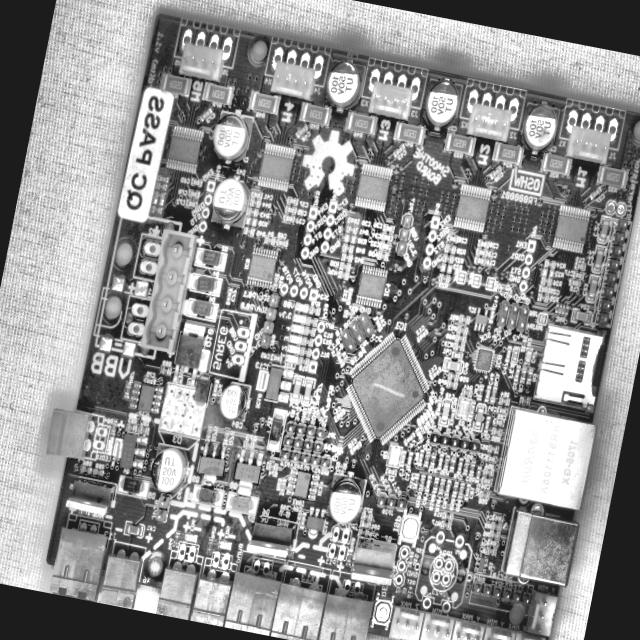PCB: (17, 12, 640, 640)
